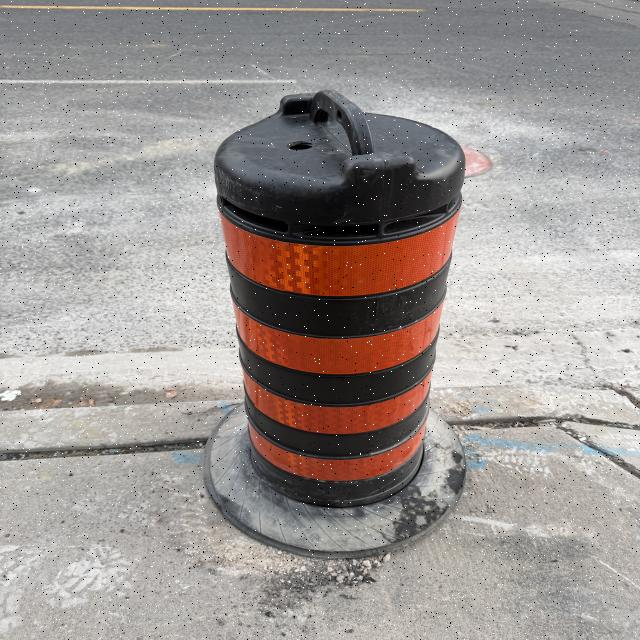Teraffic Barrel: (215, 91, 465, 507)
